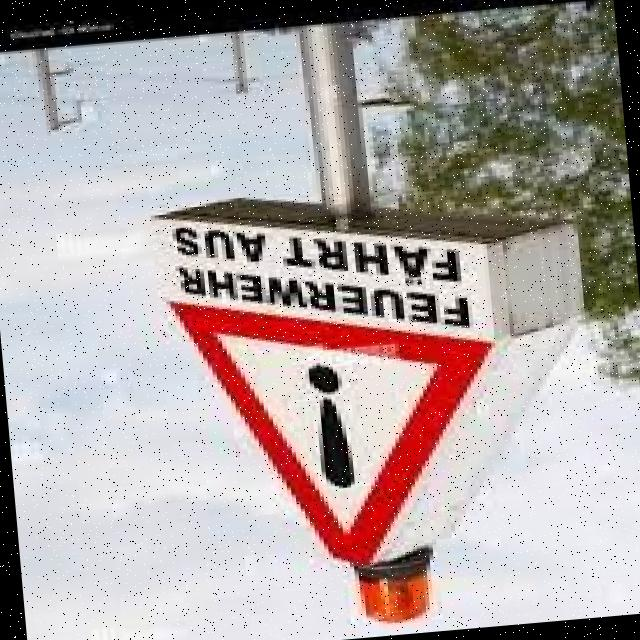warning: (88, 268, 524, 578)
